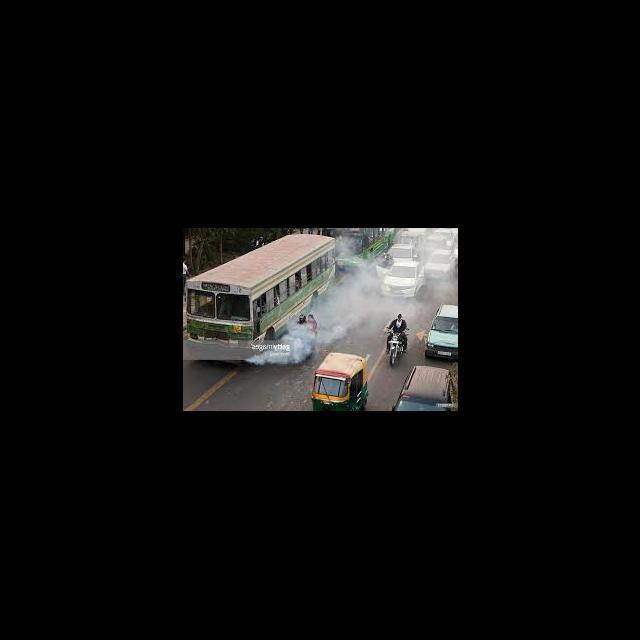Smoke: (245, 264, 381, 366)
